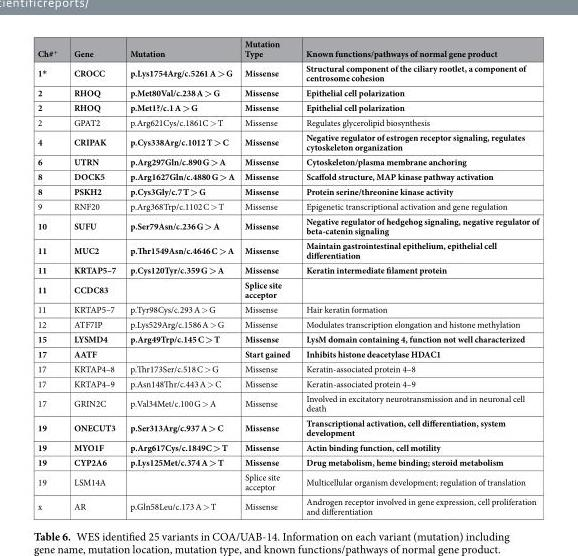table: (36, 37, 538, 516)
table column: (297, 37, 538, 516), (122, 37, 238, 516), (238, 37, 297, 516), (65, 37, 122, 516), (36, 37, 65, 516)
table column header: (36, 37, 538, 60)
table row: (36, 237, 538, 262), (36, 390, 538, 415), (36, 60, 538, 84), (36, 129, 538, 153), (36, 213, 538, 237), (36, 277, 538, 301), (36, 415, 538, 439), (36, 469, 538, 493), (36, 37, 538, 60), (36, 493, 538, 516), (36, 84, 538, 99), (36, 99, 538, 114), (36, 114, 538, 129), (36, 153, 538, 168), (36, 168, 538, 183), (36, 183, 538, 198), (36, 198, 538, 213), (36, 262, 538, 277), (36, 301, 538, 316), (36, 316, 538, 331), (36, 331, 538, 346), (36, 346, 538, 361), (36, 375, 538, 390), (36, 439, 538, 454), (36, 454, 538, 469), (36, 361, 538, 375)
